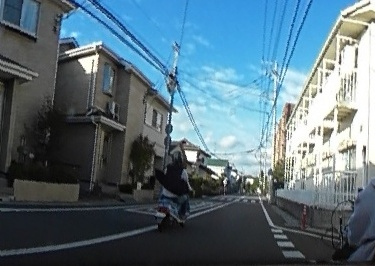person: (345, 89, 375, 266), (162, 149, 193, 219)
